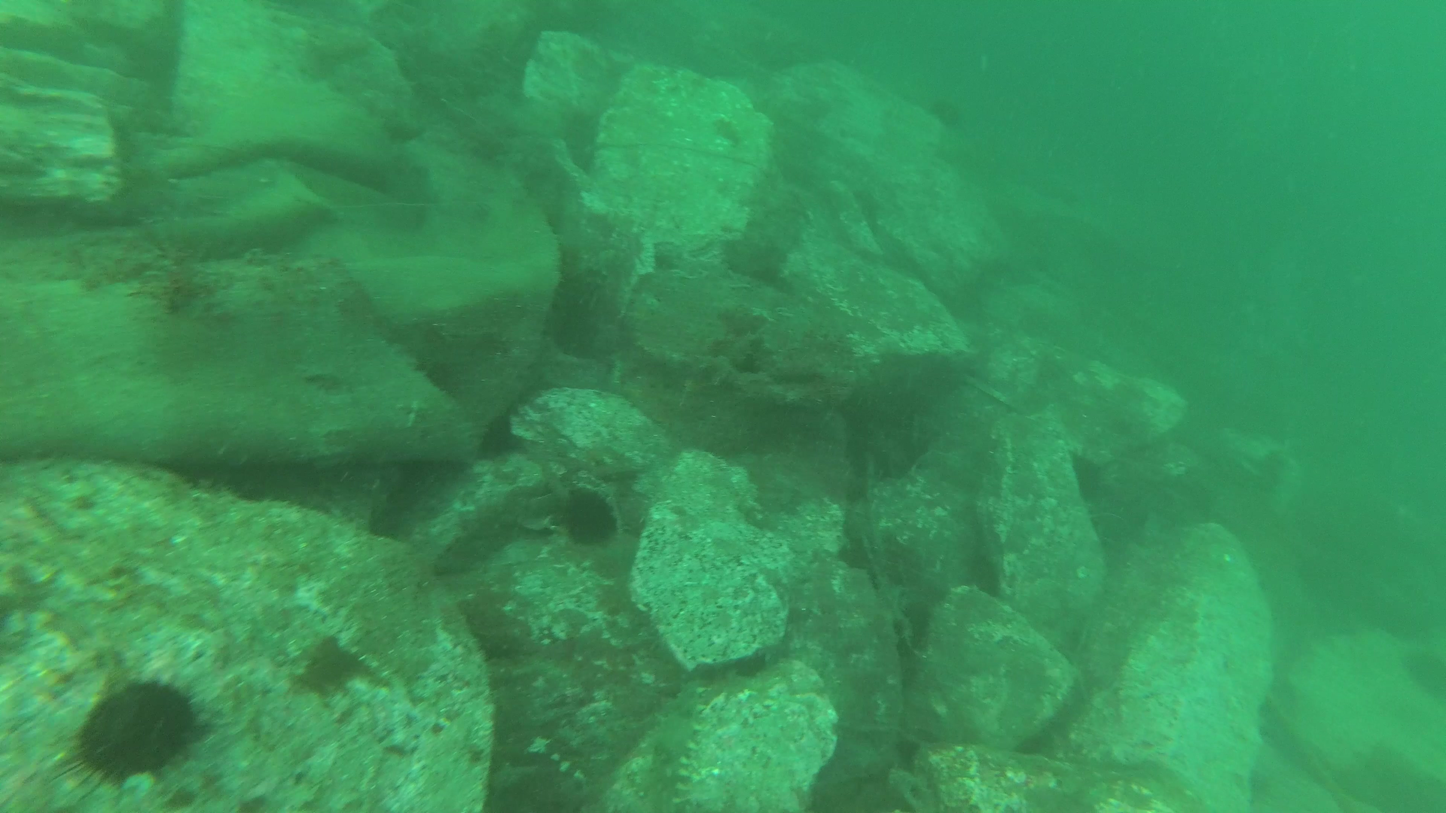starfish: (58, 670, 211, 793), (561, 487, 620, 545)
